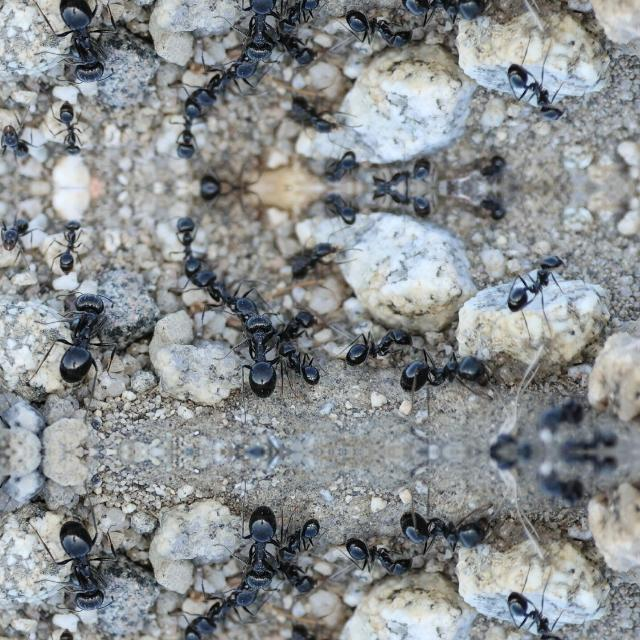Messor: (40, 284, 120, 400), (40, 502, 120, 618), (40, 0, 120, 89), (172, 252, 260, 324), (172, 50, 260, 122), (172, 578, 259, 640), (237, 309, 289, 399), (237, 503, 289, 593), (237, 0, 289, 65), (166, 217, 210, 279), (166, 95, 210, 157), (52, 211, 88, 271), (52, 103, 88, 163), (0, 213, 38, 267), (0, 107, 38, 161), (166, 623, 210, 640)
